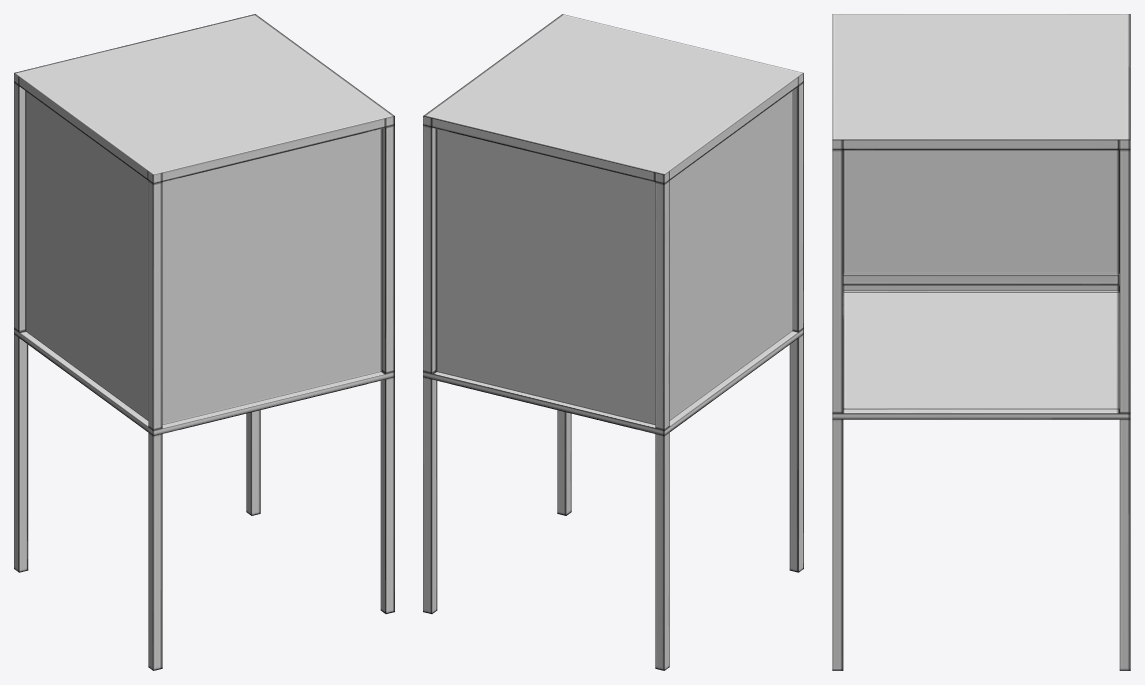
The model's file is Drag.obj.
3 views of the same model, side by side, from view 1: azimuth 30°, elevation 25°; view 2: azimuth 150°, elevation 25°; view 3: azimuth 270°, elevation 25° (orthographic). The views are drawn at different scales.
Parts seen in each view (by area): view 1: Cube; view 2: Cube; view 3: Cube.
Part boxes in pixels (box(x1,y1,x2,y2)): Cube: box(14, 14, 394, 670); Cube: box(423, 14, 803, 670); Cube: box(832, 14, 1130, 670).
Size of the model in its own units: 0.8 by 1.57 by 0.8.
Materials: 1 (1 with a texture image).
